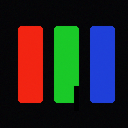4 line_v: (74, 86, 78, 110)
